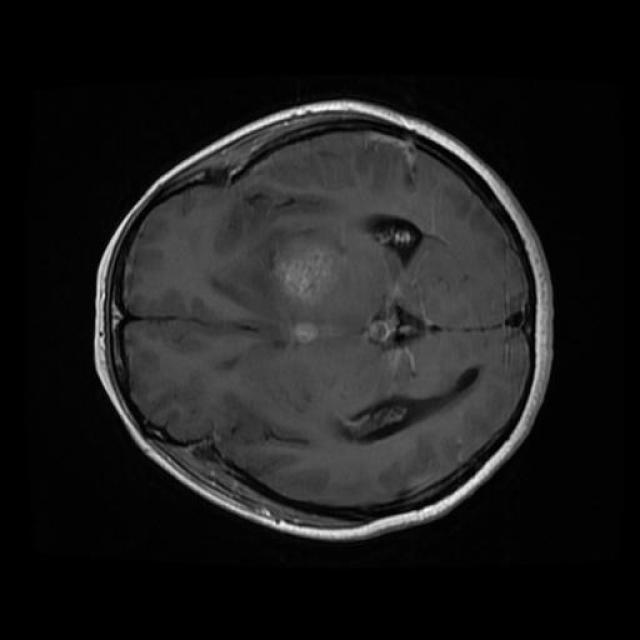Glioma: (273, 237, 347, 307)
